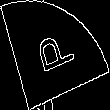P_W: (31, 28, 79, 82)
